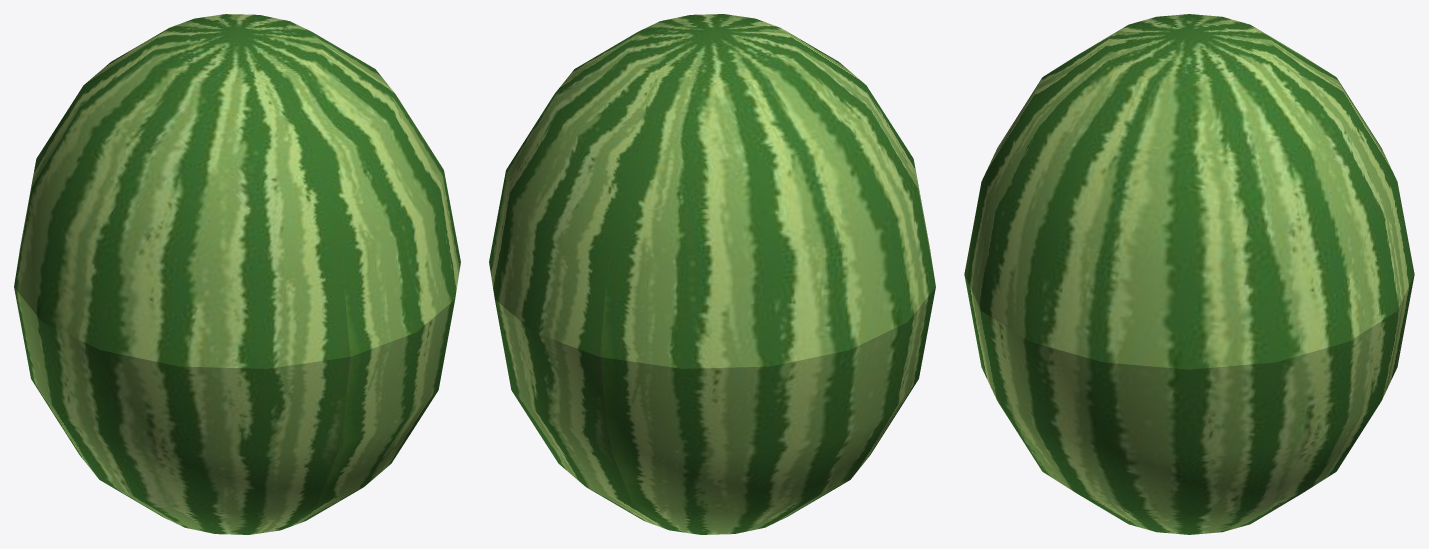
The model's file is Food_Watermelon_Half.glb.
3 views of the same model, side by side, from view 1: azimuth 30°, elevation 25°; view 2: azimuth 150°, elevation 25°; view 3: azimuth 270°, elevation 25° (orthographic).
Visible parts, largest first — view 1: Food_Watermelon_Half; view 2: Food_Watermelon_Half; view 3: Food_Watermelon_Half.
Part boxes in pixels (x1,y1,x2,y2): Food_Watermelon_Half: [14, 14, 460, 534]; Food_Watermelon_Half: [489, 14, 935, 534]; Food_Watermelon_Half: [964, 14, 1414, 534].
Size of the model in its own units: 0.2858 by 0.34 by 0.2858.
1 material, 1 textured.
